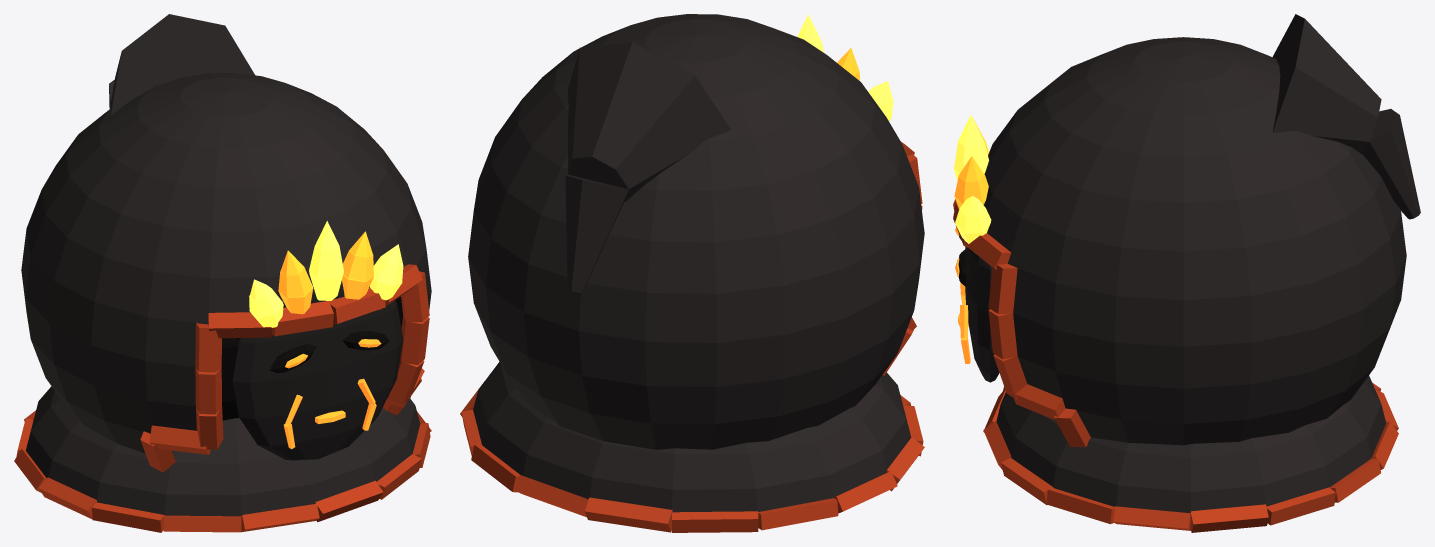
The model's file is ember_hood.glb.
The picture shows the model from 3 angles, left to right: view 1: azimuth 30°, elevation 25°; view 2: azimuth 150°, elevation 25°; view 3: azimuth 270°, elevation 25°; orthographic projection. The views are drawn at different scales.
Parts seen in each view (by area): view 1: ember_hood; view 2: ember_hood; view 3: ember_hood.
Boxes of the visible parts, bbox=[...] form: ember_hood: bbox=[14, 14, 431, 532]; ember_hood: bbox=[460, 14, 924, 532]; ember_hood: bbox=[953, 14, 1420, 532].
Bounding box in the file's own units: 1.22 × 1.29 × 1.26.
